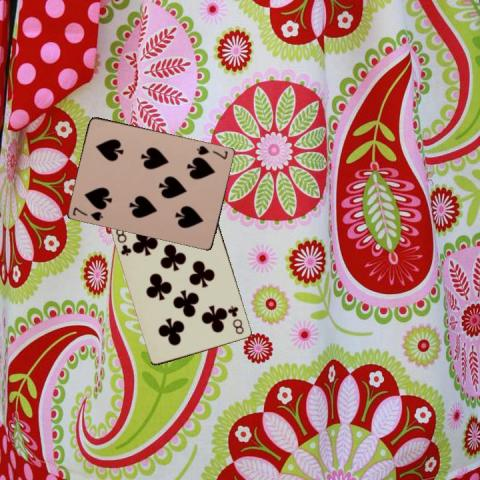7s: (194, 142, 229, 160), (70, 204, 105, 222)
8c: (113, 226, 133, 258), (226, 303, 245, 336)
